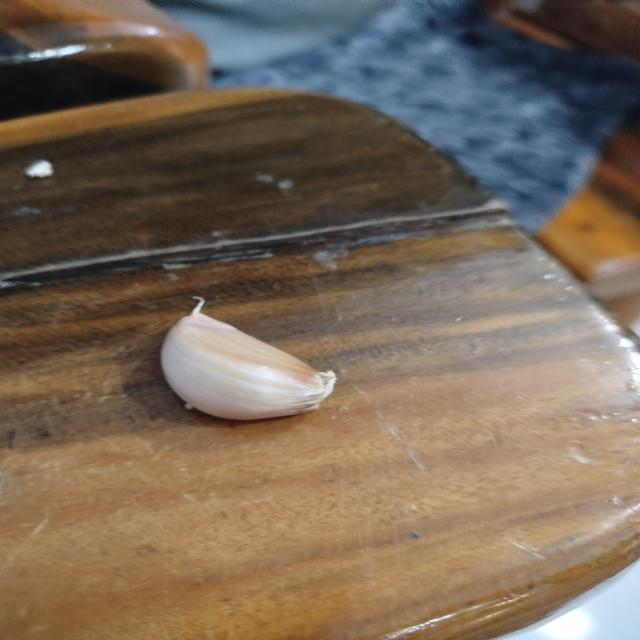garlic: (159, 295, 337, 421)
